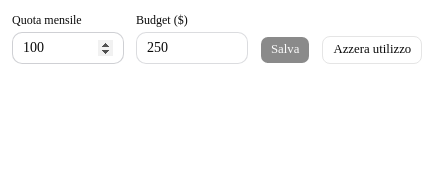
Test: AdminQuotaForm › salva quota e budget aggiornati con feedback positivo
Replace the text in the number field labelled "Quota mensile" with "120" at [68, 48], box [12,32,124,64]
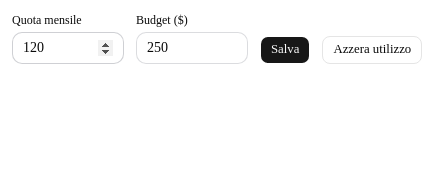
Replace the text in the number field labelled "Budget ($)" with "300" at [192, 48], box [136,32,248,64]
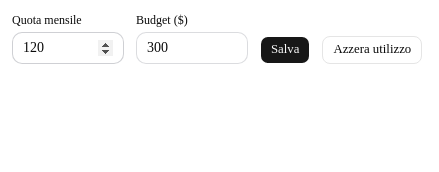
Click the button "Salva" at [285, 50], box [260,36,310,64]
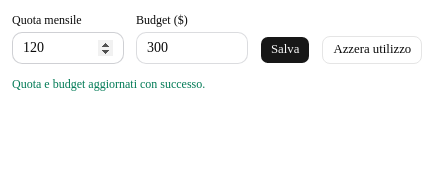
Check: the text "Quota e budget aggiornati con successo." is shown, box [12,77,205,91]
